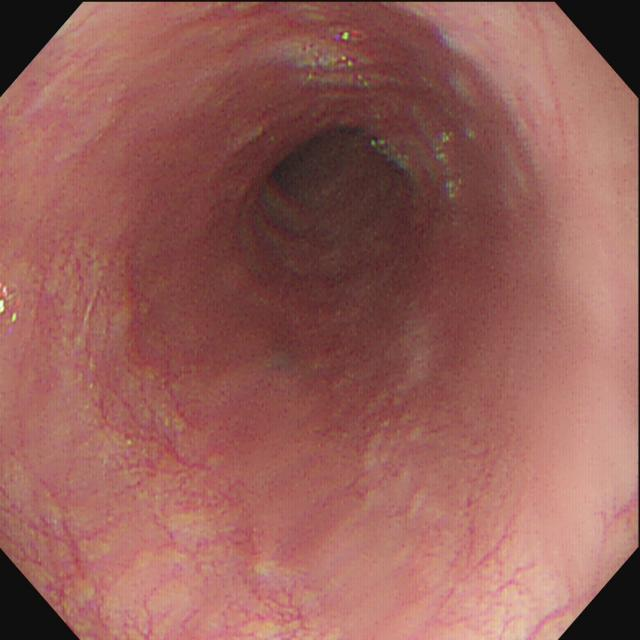E: (239, 108, 430, 283)
T: (287, 21, 388, 98), (370, 130, 470, 200)
U: (2, 281, 25, 326)
